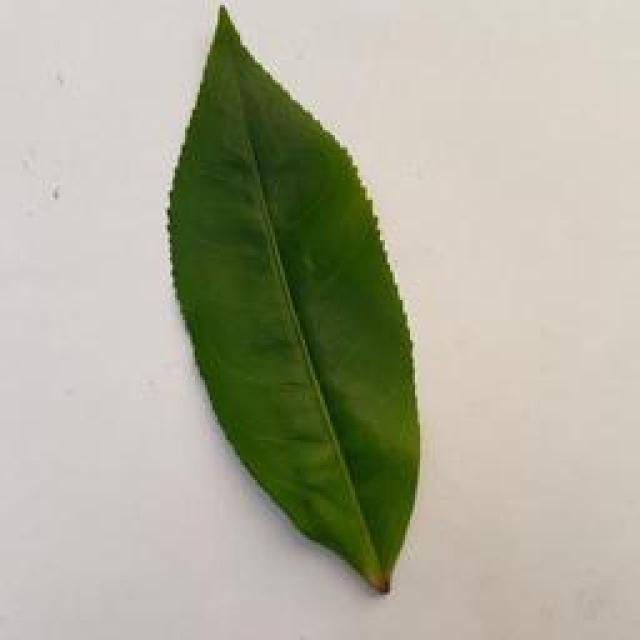Healthy: (160, 1, 436, 596)
